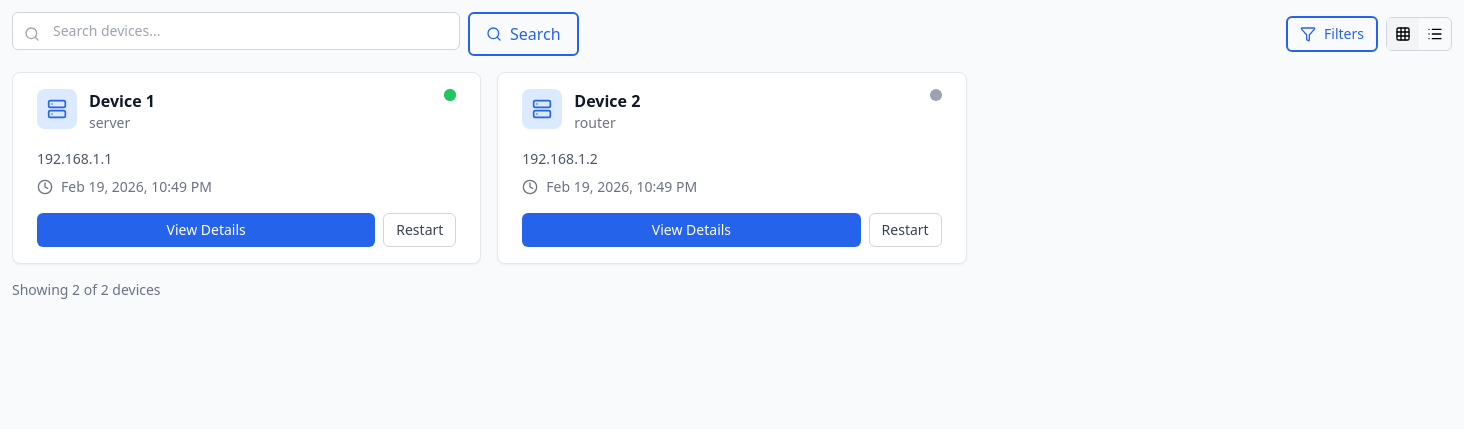
Test: DeviceList › handles filter change with type
Click the button "Filters" at (1332, 34), box [1286,16,1378,52]
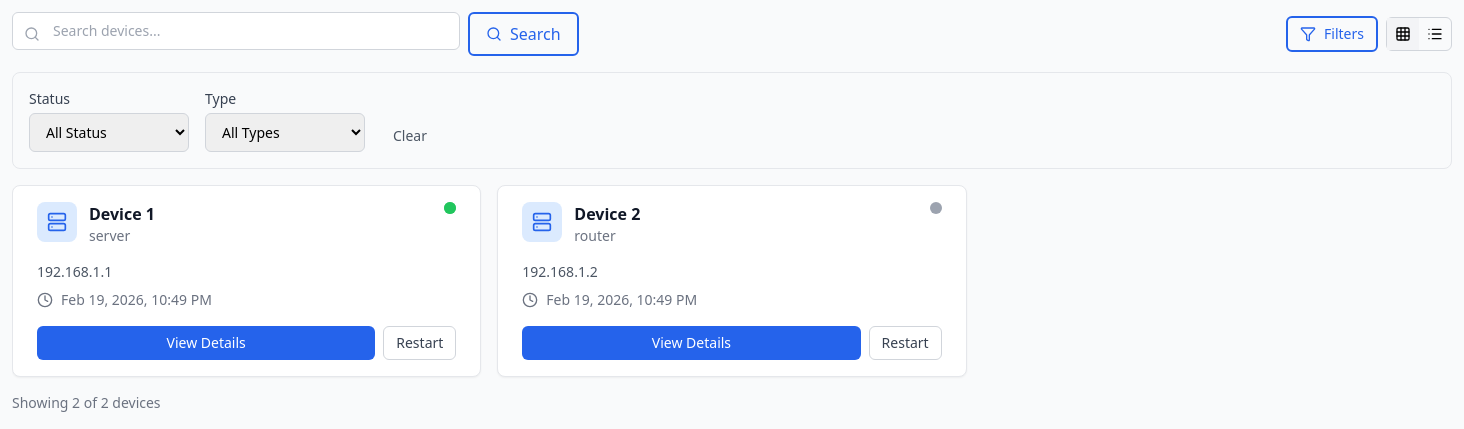
Select "Server" in the dropdown labelled "Type" at (285, 132), box [205,113,365,152]
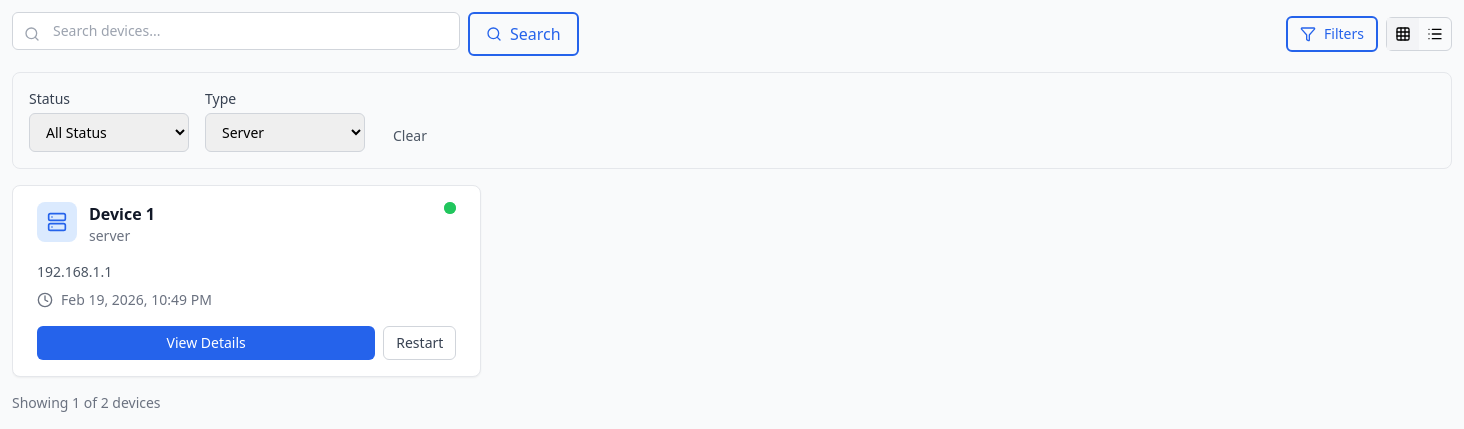
Expected: the text "Showing 1 of 2 devices" is shown, [12,393,161,412]
